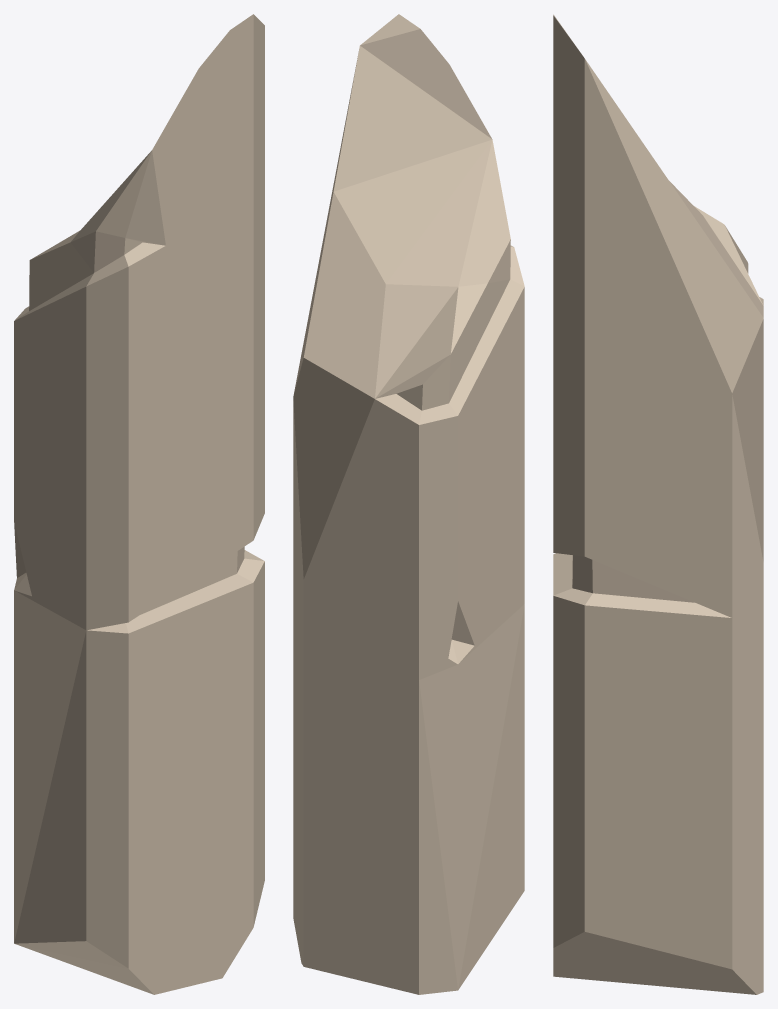
File: Broken_Pillar_001.fbx
3 renders of one model, left to right at view 1: azimuth 30°, elevation 25°; view 2: azimuth 150°, elevation 25°; view 3: azimuth 270°, elevation 25°, orthographic. The views are drawn at different scales.
Visible parts, largest first — view 1: Broken_Pillar_001; view 2: Broken_Pillar_001; view 3: Broken_Pillar_001.
Part boxes in pixels (<box>): Broken_Pillar_001: <box>14,14,264,994</box>; Broken_Pillar_001: <box>293,14,524,994</box>; Broken_Pillar_001: <box>553,14,763,994</box>.
Size of the model in its own units: 0.5 by 2.56 by 0.5.
